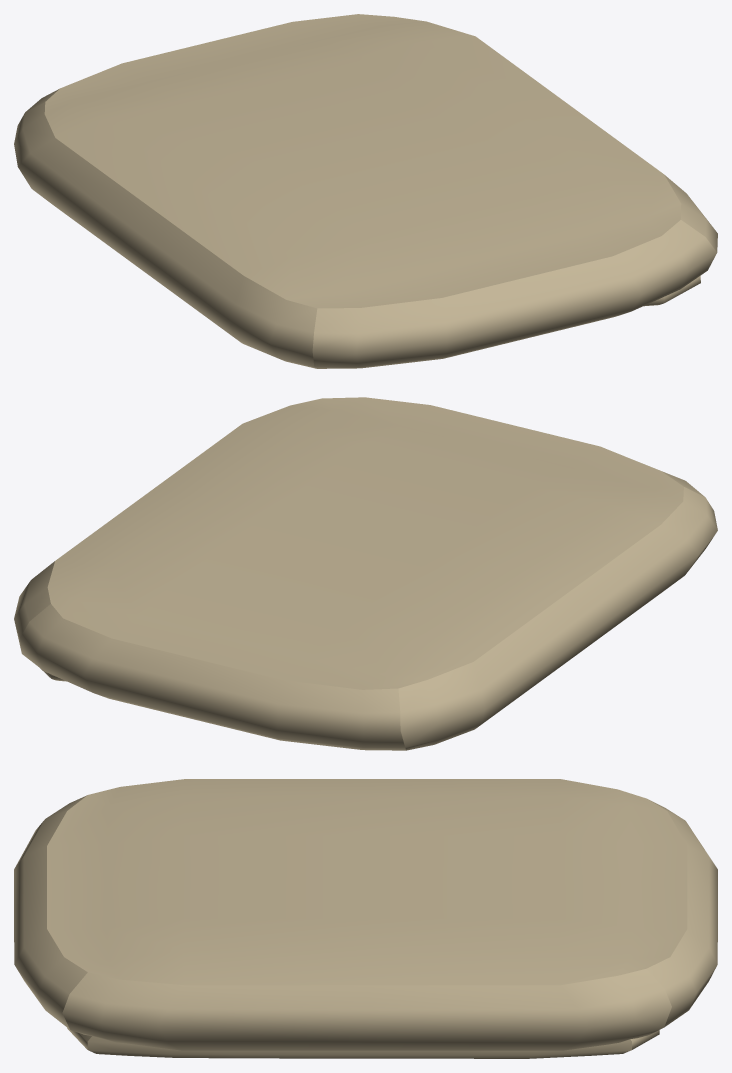
Rendered from sobre.fbx.
3 renders of one model, top to bottom at view 1: azimuth 30°, elevation 25°; view 2: azimuth 150°, elevation 25°; view 3: azimuth 270°, elevation 25°, orthographic.
Visible parts, largest first — view 1: pCube3; view 2: pCube3; view 3: pCube3.
Part boxes in pixels (bbox=[...]): pCube3: bbox=[14, 14, 717, 368]; pCube3: bbox=[14, 397, 717, 750]; pCube3: bbox=[14, 779, 717, 1058].
Bounding box in the file's own units: 148 × 30.01 × 192.
